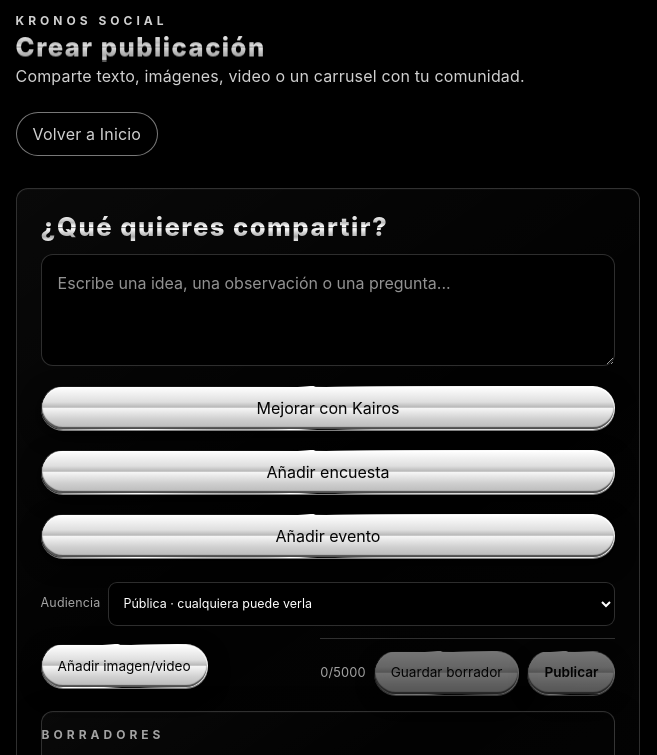
Test: Kairos sugiere en el compositor y solo aplica con confirmación
This screenshot has width=657, height=755.
Type "borrador simple" into the text box named "Contenido de la publicación". click: (328,310)
box: left=41, top=254, right=615, bottom=366
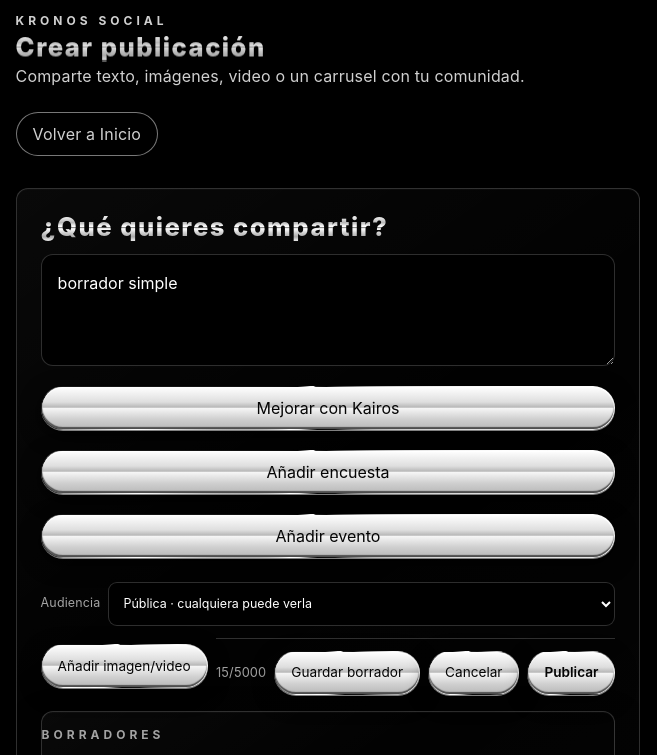
Click the button "Mejorar con Kairos". click: (328,408)
box: left=41, top=386, right=615, bottom=430
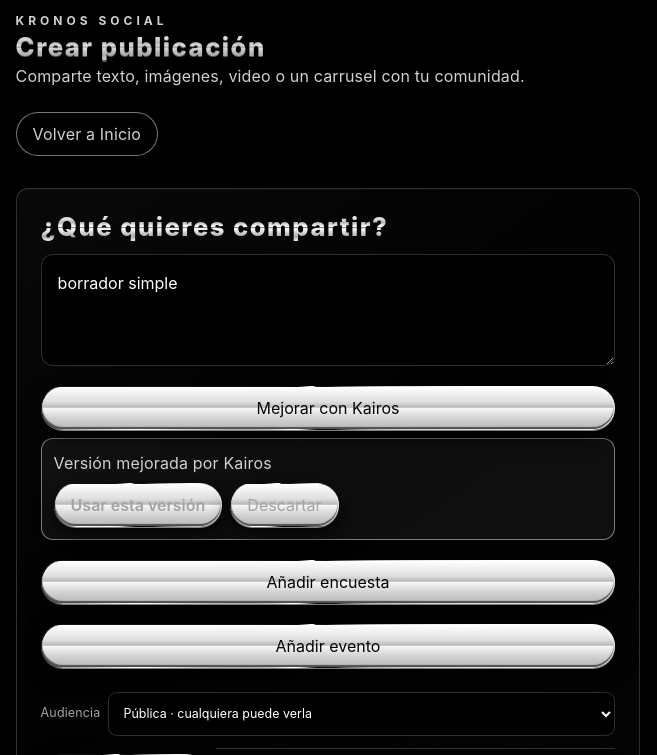
Expected: the text "Versión mejorada por Kairos" is shown, left=54, top=453, right=272, bottom=473
Click the button "Usar esta versión". click: (138,505)
box: left=54, top=483, right=222, bottom=527
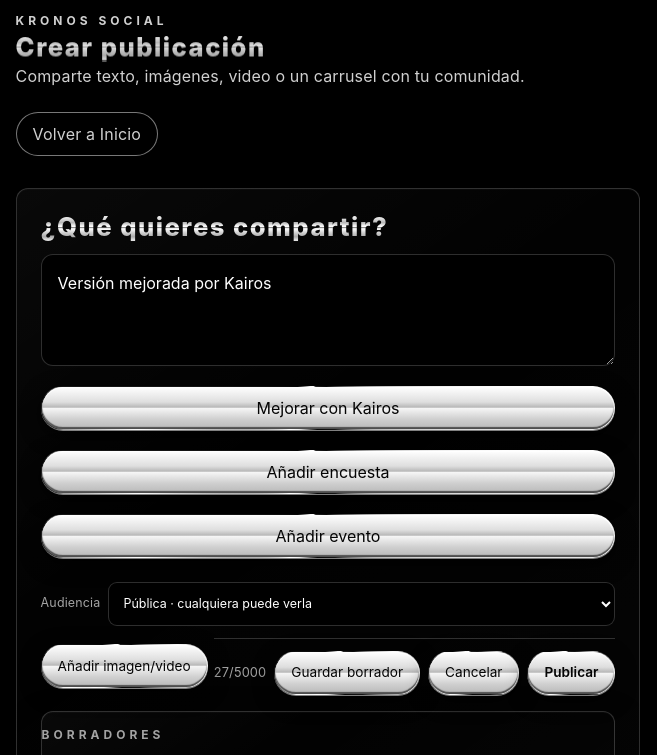
Expected: the text box named "Contenido de la publicación" holds "Versión mejorada por Kairos", left=41, top=254, right=615, bottom=366
